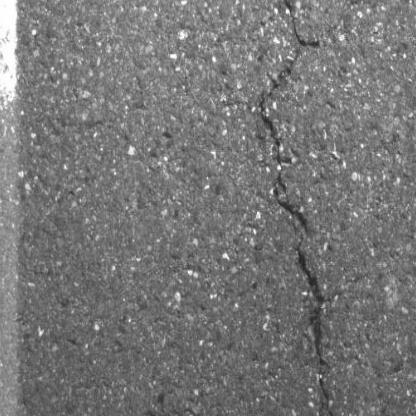Cracks: (257, 0, 338, 416)
